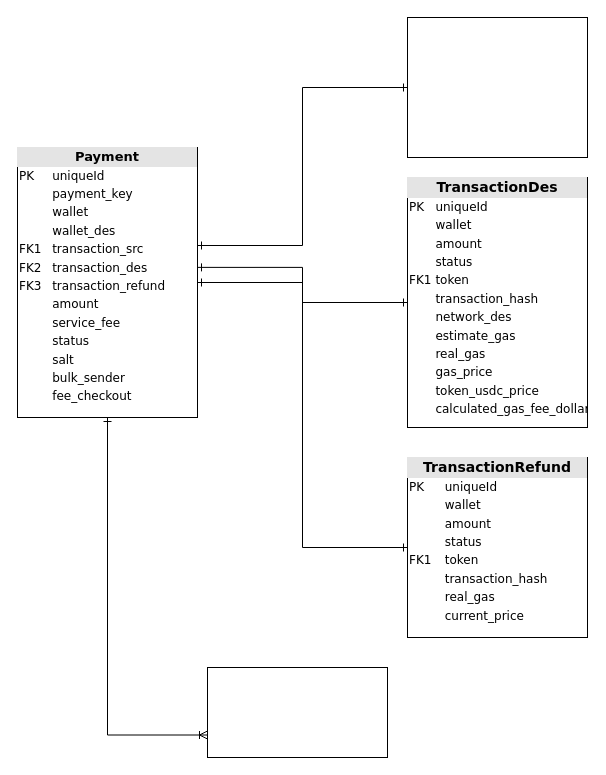
The diagram is 606 pixels wide and 775 high, and some of its shapes have lost their labels. Each missing label, with the box of its shape:
TrackingStatus PK uniqueId status FK1 payment: (206, 666, 388, 758)
TransactionSrc PK uniqueId wallet amount status FK1 token transaction_hash: (406, 16, 588, 158)
